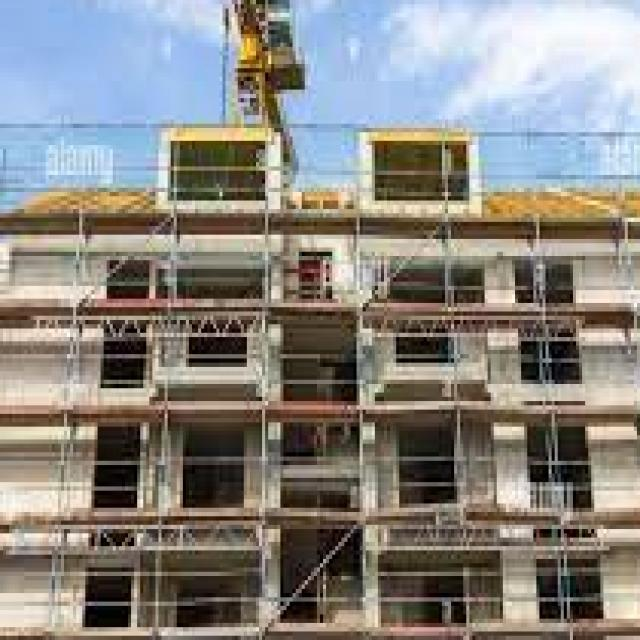Exterior Finishing: (27, 260, 640, 627)
Roofing: (18, 158, 640, 217)
